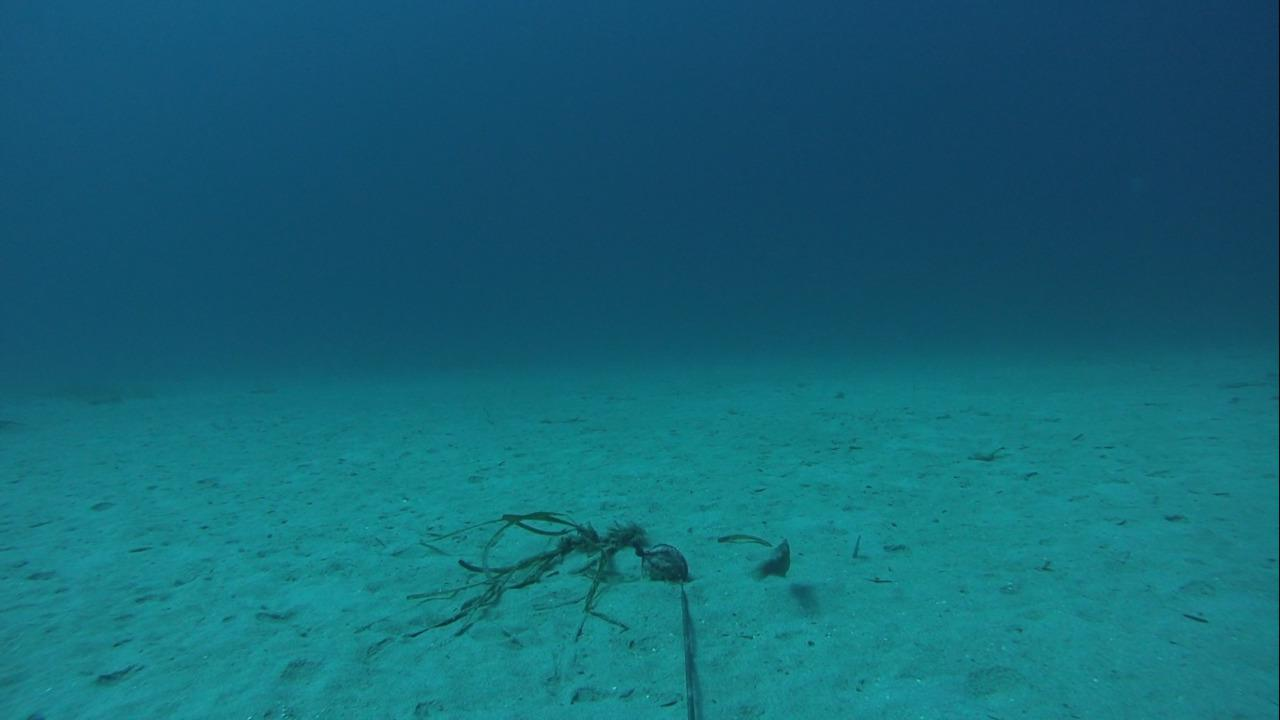raor: (743, 534, 794, 581)
